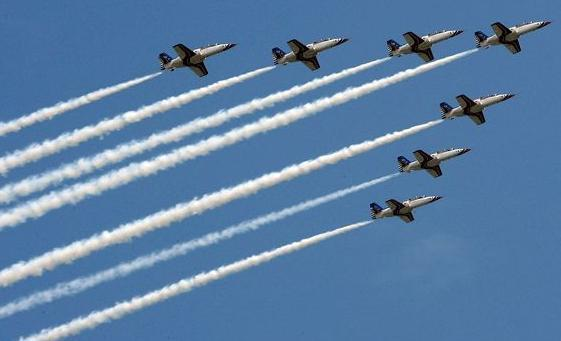aircraft: (158, 42, 238, 80), (386, 29, 467, 65), (473, 20, 554, 55), (273, 36, 351, 72), (439, 93, 519, 126), (398, 146, 473, 180), (368, 195, 441, 225)
